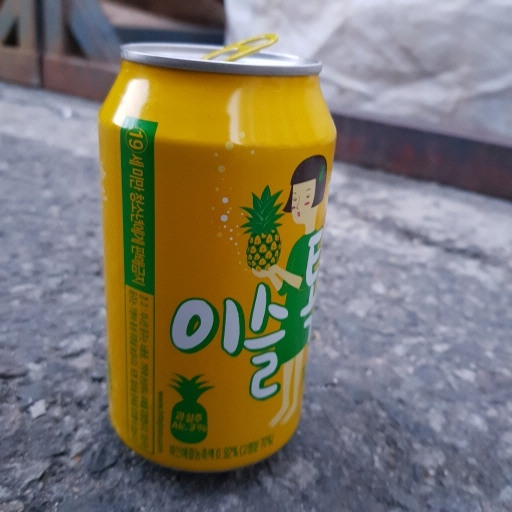Metal_0: (100, 37, 339, 477)
